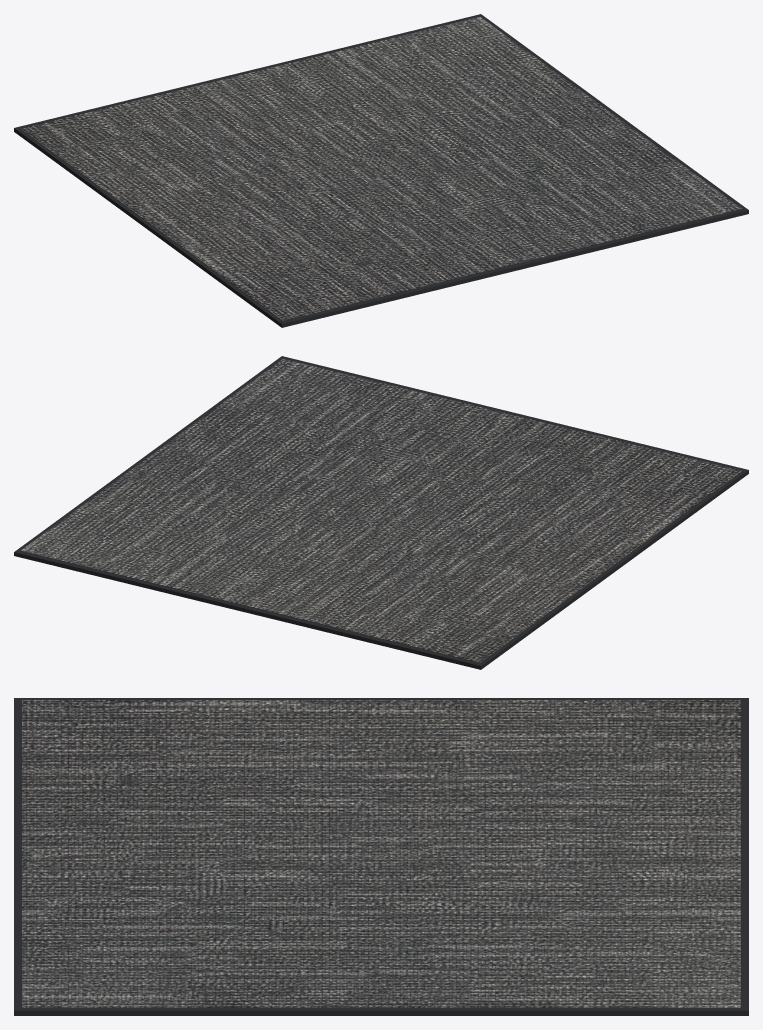
File: 01_floor_pad.glb
The picture shows the model from 3 angles, top to bottom: view 1: azimuth 30°, elevation 25°; view 2: azimuth 150°, elevation 25°; view 3: azimuth 270°, elevation 25°; orthographic projection. The views are drawn at different scales.
Parts seen in each view (by area): view 1: part_1.001; view 2: part_1.001; view 3: part_1.001.
Boxes of the visible parts, x1,y1,x2,y2 form: part_1.001: (14,14,748,327); part_1.001: (14,356,748,669); part_1.001: (14,698,748,1015).
Size of the model in its own units: 1 by 0.00864 by 0.9951.
2 materials, 1 textured.
